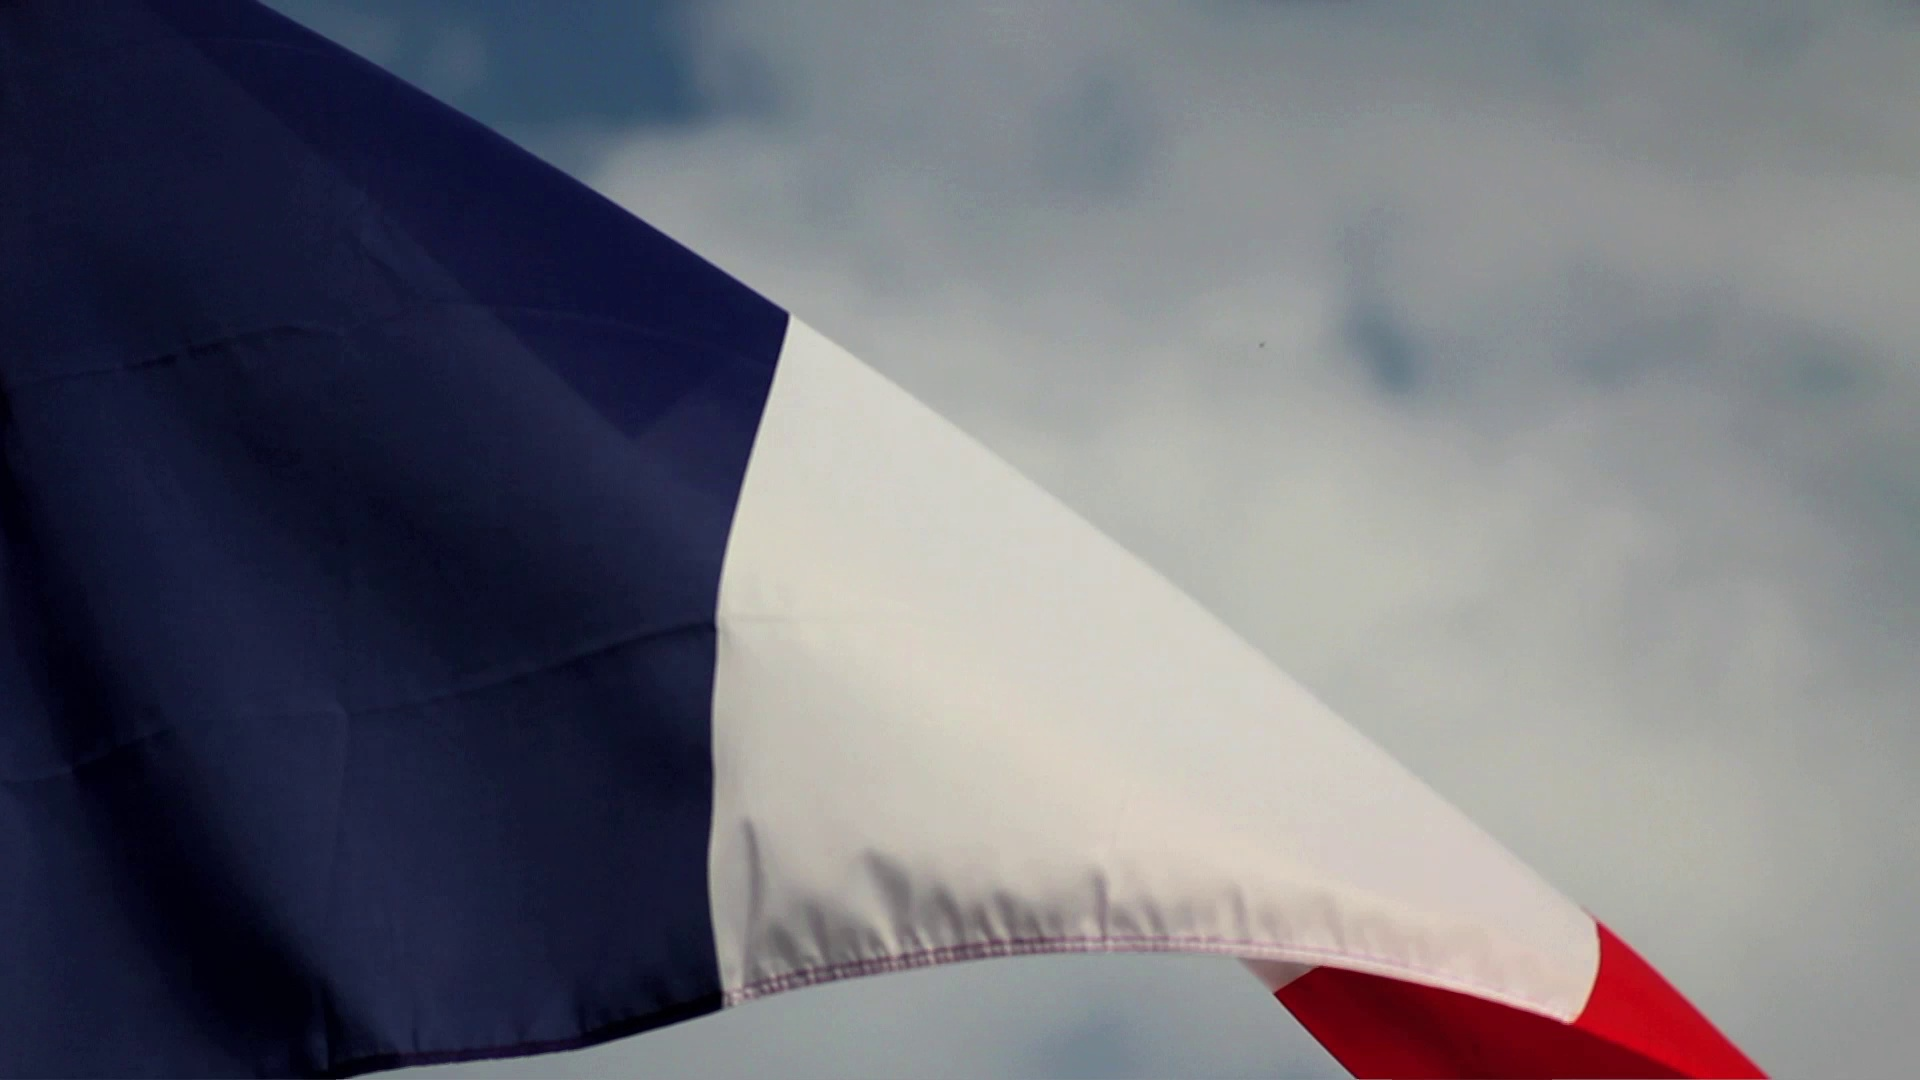French Flag: (1, 3, 1760, 1080)
